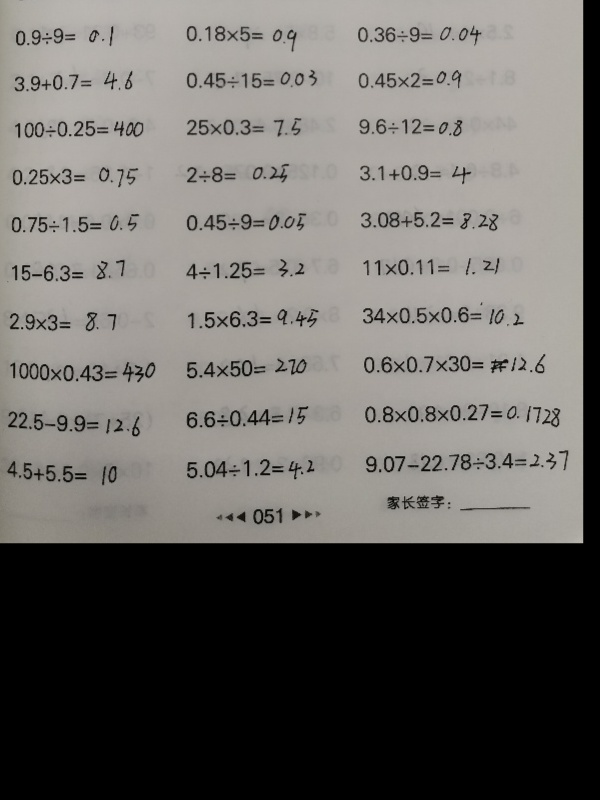equation: (351, 399, 571, 431), (363, 449, 576, 480), (359, 350, 553, 380), (359, 297, 526, 328), (7, 359, 160, 386), (360, 256, 510, 283), (0, 305, 127, 336), (4, 409, 143, 437), (182, 454, 317, 482), (356, 207, 501, 233), (184, 304, 321, 331), (3, 460, 126, 490), (9, 164, 142, 191), (354, 22, 485, 49), (180, 161, 301, 190), (10, 116, 147, 141), (2, 258, 128, 285), (182, 22, 299, 51), (7, 210, 142, 235), (10, 67, 135, 94), (182, 67, 320, 91), (183, 209, 310, 235), (182, 256, 307, 282), (182, 404, 311, 429), (182, 355, 310, 380), (183, 114, 304, 140), (356, 160, 474, 186), (12, 22, 116, 49), (355, 67, 465, 92), (355, 114, 465, 138)
